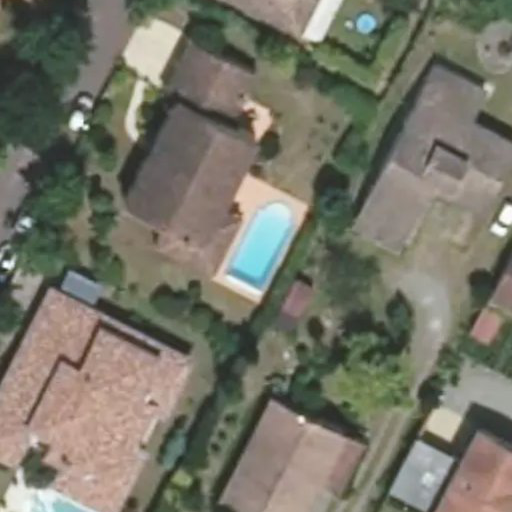pool: (226, 199, 298, 293), (356, 14, 376, 34)
